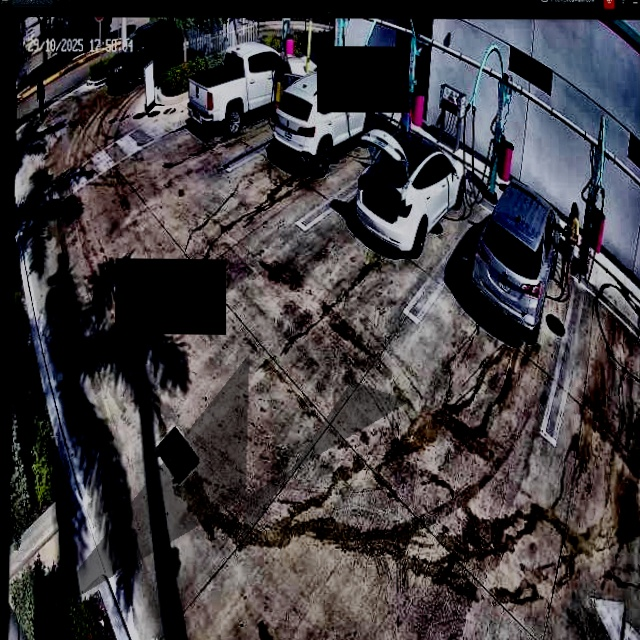Car: (356, 117, 466, 258), (480, 178, 556, 336), (274, 74, 375, 175)
